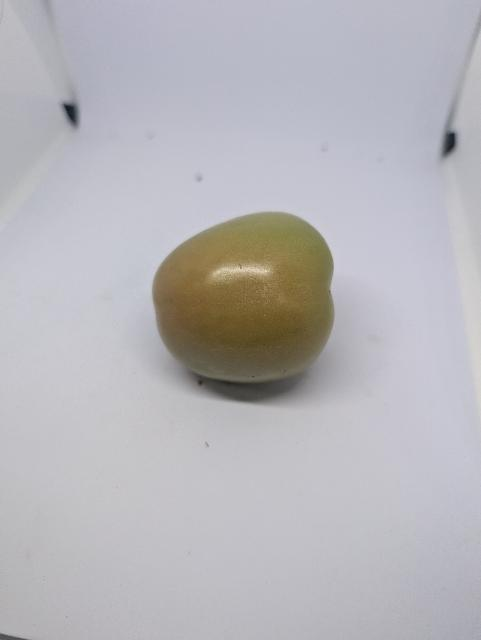breaker: (148, 212, 340, 383)
